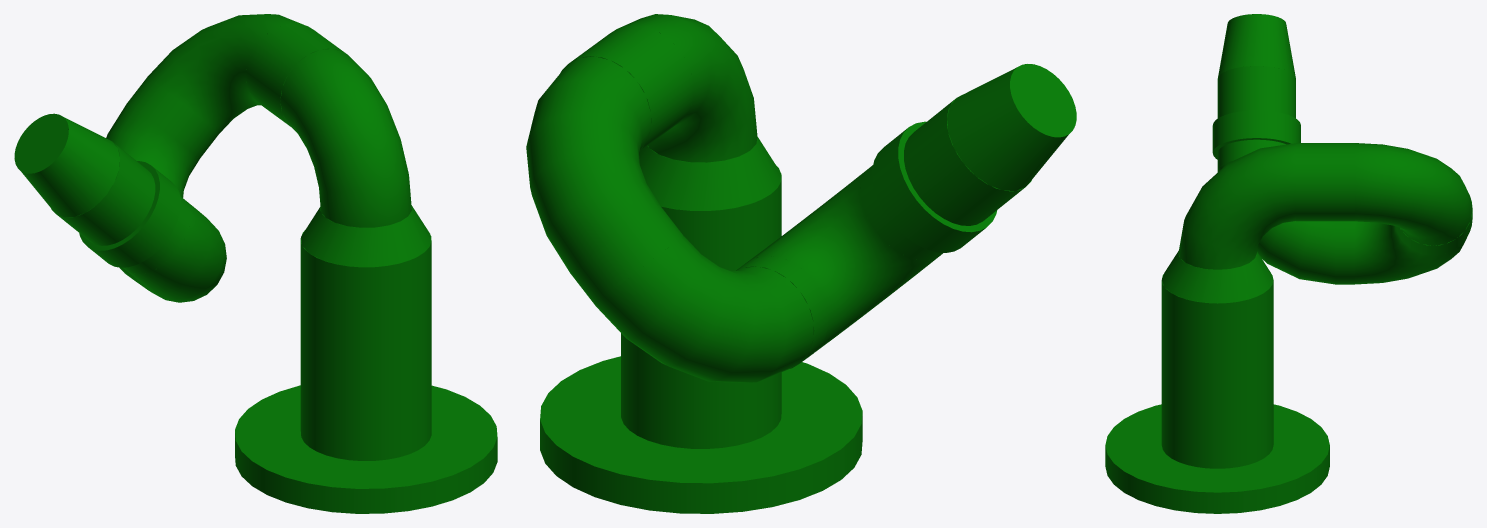
File: Image-1710907553145-2281200227504_71-SM51B.fbx
The picture shows the model from 3 angles, left to right: view 1: azimuth 30°, elevation 25°; view 2: azimuth 150°, elevation 25°; view 3: azimuth 270°, elevation 25°; orthographic projection. The views are drawn at different scales.
Visible parts, largest first — view 1: /71-SM51B-N1, CTORUS 1 of SUBEQUIPMENT /71-SM51B-PRIM, CYLINDER 1 of SUBEQUIPMENT /71-SM51B-PRIM, CTORUS 4 of SUBEQUIPMENT /71-SM51B-PRIM, CONE 2 of SUBEQUIPMENT /71-SM51B-PRIM, CONE 1 of SUBEQUIPMENT /71-SM51B-PRIM, CTORUS 3 of SUBEQUIPMENT /71-SM51B-PRIM, CYLINDER 6 of SUBEQUIPMENT /71-SM51B-PRIM, CYLINDER 2 of SUBEQUIPMENT /71-SM51B-PRIM, CTORUS 2 of SUBEQUIPMENT /71-SM51B-PRIM, CYLINDER 5 of SUBEQUIPMENT /71-SM51B-PRIM, CYLINDER 7 of SUBEQUIPMENT /71-SM51B-PRIM (+1 smaller); view 2: /71-SM51B-N1, CTORUS 2 of SUBEQUIPMENT /71-SM51B-PRIM, CTORUS 4 of SUBEQUIPMENT /71-SM51B-PRIM, CONE 2 of SUBEQUIPMENT /71-SM51B-PRIM, CTORUS 3 of SUBEQUIPMENT /71-SM51B-PRIM, CTORUS 1 of SUBEQUIPMENT /71-SM51B-PRIM, CONE 1 of SUBEQUIPMENT /71-SM51B-PRIM, CYLINDER 6 of SUBEQUIPMENT /71-SM51B-PRIM, CYLINDER 2 of SUBEQUIPMENT /71-SM51B-PRIM, CYLINDER 1 of SUBEQUIPMENT /71-SM51B-PRIM, CYLINDER 5 of SUBEQUIPMENT /71-SM51B-PRIM, CYLINDER 7 of SUBEQUIPMENT /71-SM51B-PRIM (+2 smaller); view 3: /71-SM51B-N1, CTORUS 1 of SUBEQUIPMENT /71-SM51B-PRIM, CTORUS 4 of SUBEQUIPMENT /71-SM51B-PRIM, CYLINDER 1 of SUBEQUIPMENT /71-SM51B-PRIM, CYLINDER 2 of SUBEQUIPMENT /71-SM51B-PRIM, CTORUS 3 of SUBEQUIPMENT /71-SM51B-PRIM, CTORUS 2 of SUBEQUIPMENT /71-SM51B-PRIM, CONE 1 of SUBEQUIPMENT /71-SM51B-PRIM, CYLINDER 6 of SUBEQUIPMENT /71-SM51B-PRIM, CONE 2 of SUBEQUIPMENT /71-SM51B-PRIM, CYLINDER 5 of SUBEQUIPMENT /71-SM51B-PRIM, CYLINDER 3 of SUBEQUIPMENT /71-SM51B-PRIM (+2 smaller).
Boxes of the visible parts, left/top/right/bottom form: /71-SM51B-N1: left=235, top=300, right=497, bottom=513; CTORUS 1 of SUBEQUIPMENT /71-SM51B-PRIM: left=280, top=49, right=411, bottom=227; CYLINDER 1 of SUBEQUIPMENT /71-SM51B-PRIM: left=300, top=230, right=431, bottom=329; CTORUS 4 of SUBEQUIPMENT /71-SM51B-PRIM: left=147, top=14, right=303, bottom=132; CONE 2 of SUBEQUIPMENT /71-SM51B-PRIM: left=14, top=113, right=120, bottom=217; CONE 1 of SUBEQUIPMENT /71-SM51B-PRIM: left=301, top=205, right=431, bottom=267; CTORUS 3 of SUBEQUIPMENT /71-SM51B-PRIM: left=127, top=199, right=226, bottom=302; CYLINDER 6 of SUBEQUIPMENT /71-SM51B-PRIM: left=57, top=142, right=155, bottom=245; CYLINDER 2 of SUBEQUIPMENT /71-SM51B-PRIM: left=246, top=23, right=350, bottom=126; CTORUS 2 of SUBEQUIPMENT /71-SM51B-PRIM: left=106, top=103, right=199, bottom=197; CYLINDER 5 of SUBEQUIPMENT /71-SM51B-PRIM: left=79, top=161, right=180, bottom=267; CYLINDER 7 of SUBEQUIPMENT /71-SM51B-PRIM: left=127, top=77, right=219, bottom=158; /71-SM51B-N1: left=540, top=333, right=862, bottom=513; CTORUS 2 of SUBEQUIPMENT /71-SM51B-PRIM: left=595, top=236, right=813, bottom=382; CTORUS 4 of SUBEQUIPMENT /71-SM51B-PRIM: left=526, top=56, right=659, bottom=273; CONE 2 of SUBEQUIPMENT /71-SM51B-PRIM: left=947, top=64, right=1076, bottom=191; CTORUS 3 of SUBEQUIPMENT /71-SM51B-PRIM: left=745, top=168, right=937, bottom=351; CTORUS 1 of SUBEQUIPMENT /71-SM51B-PRIM: left=620, top=14, right=757, bottom=162; CONE 1 of SUBEQUIPMENT /71-SM51B-PRIM: left=639, top=136, right=781, bottom=210; CYLINDER 6 of SUBEQUIPMENT /71-SM51B-PRIM: left=904, top=99, right=1024, bottom=225; CYLINDER 2 of SUBEQUIPMENT /71-SM51B-PRIM: left=560, top=25, right=693, bottom=151; CYLINDER 1 of SUBEQUIPMENT /71-SM51B-PRIM: left=661, top=166, right=781, bottom=270; CYLINDER 5 of SUBEQUIPMENT /71-SM51B-PRIM: left=872, top=121, right=997, bottom=252; CYLINDER 7 of SUBEQUIPMENT /71-SM51B-PRIM: left=571, top=205, right=683, bottom=304; /71-SM51B-N1: left=1105, top=333, right=1329, bottom=513; CTORUS 1 of SUBEQUIPMENT /71-SM51B-PRIM: left=1178, top=143, right=1295, bottom=269; CTORUS 4 of SUBEQUIPMENT /71-SM51B-PRIM: left=1355, top=143, right=1472, bottom=245; CYLINDER 1 of SUBEQUIPMENT /71-SM51B-PRIM: left=1161, top=274, right=1273, bottom=356; CYLINDER 2 of SUBEQUIPMENT /71-SM51B-PRIM: left=1296, top=143, right=1354, bottom=221; CTORUS 3 of SUBEQUIPMENT /71-SM51B-PRIM: left=1217, top=162, right=1335, bottom=284; CTORUS 2 of SUBEQUIPMENT /71-SM51B-PRIM: left=1355, top=221, right=1466, bottom=284; CONE 1 of SUBEQUIPMENT /71-SM51B-PRIM: left=1162, top=250, right=1273, bottom=303; CYLINDER 6 of SUBEQUIPMENT /71-SM51B-PRIM: left=1217, top=66, right=1295, bottom=118; CONE 2 of SUBEQUIPMENT /71-SM51B-PRIM: left=1218, top=14, right=1295, bottom=77; CYLINDER 5 of SUBEQUIPMENT /71-SM51B-PRIM: left=1212, top=110, right=1300, bottom=159; CYLINDER 3 of SUBEQUIPMENT /71-SM51B-PRIM: left=1335, top=221, right=1354, bottom=284.
Bounding box in the file's own units: 0.4386 × 0.3745 × 0.3778.
